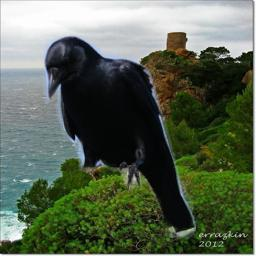Crow: (42, 35, 196, 242)
